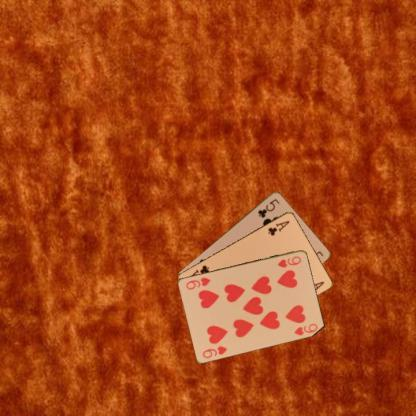5c: (256, 196, 280, 219)
9h: (199, 344, 228, 360), (275, 254, 302, 268)
Ac: (265, 218, 291, 237)
